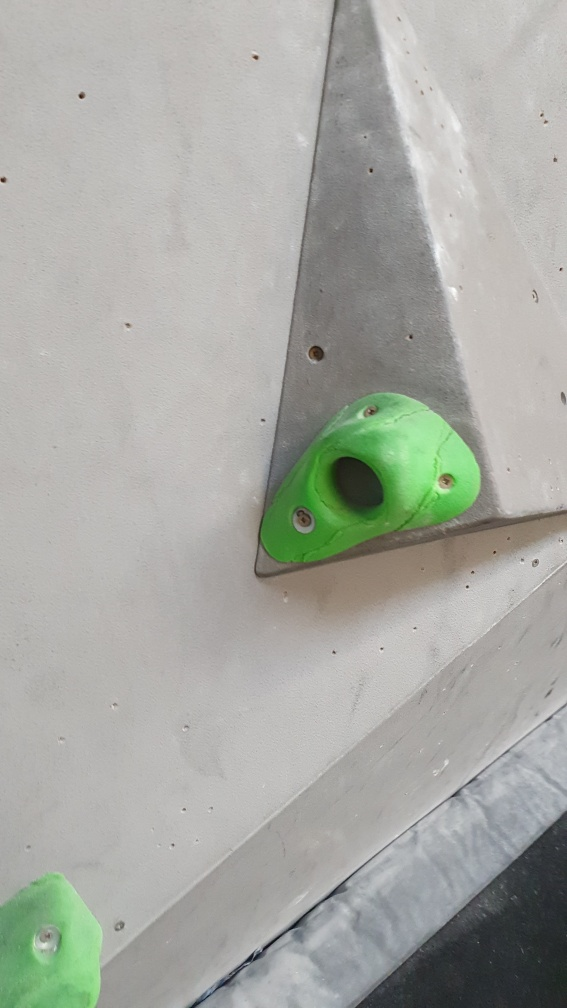Pocket: (256, 388, 484, 565)
